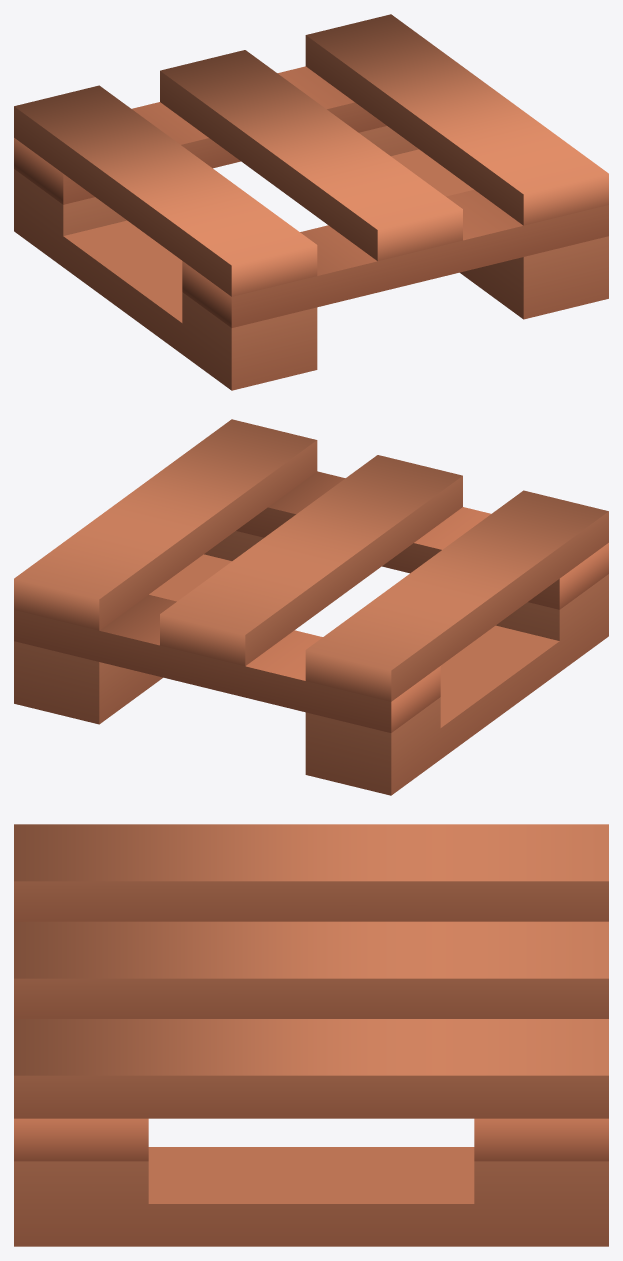
Rendered from pallet.fbx.
3 renders of one model, top to bottom at view 1: azimuth 30°, elevation 25°; view 2: azimuth 150°, elevation 25°; view 3: azimuth 270°, elevation 25°, orthographic. The views are drawn at different scales.
Parts seen in each view (by area): view 1: pallet; view 2: pallet; view 3: pallet.
Part boxes in pixels (x1,y1,x2,y2): pallet: (14, 14, 608, 390); pallet: (14, 419, 608, 795); pallet: (14, 824, 608, 1246).
Size of the model in its own units: 50 by 15.84 by 50.
1 material, 1 textured.
